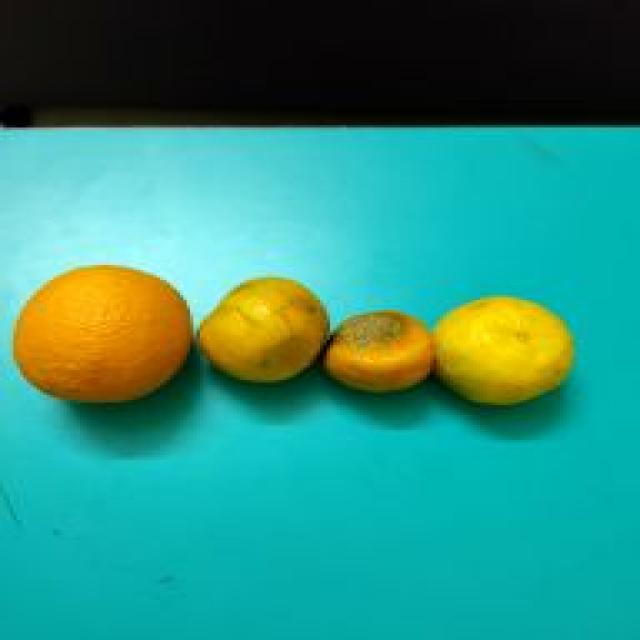Organik: (13, 252, 196, 430), (446, 266, 604, 422), (198, 270, 367, 409), (306, 297, 442, 402)
